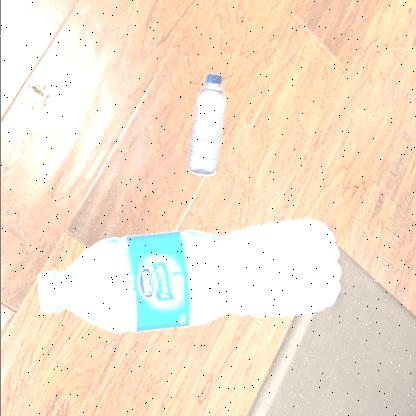Plastic Bottle: (36, 220, 340, 334), (187, 74, 224, 176)
